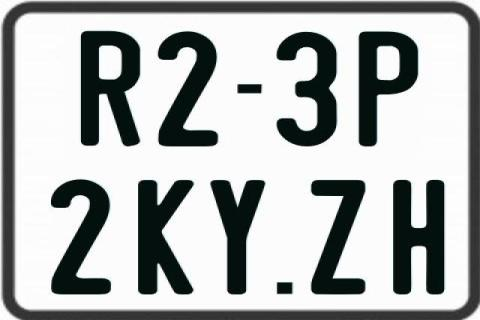0: (274, 32, 338, 150), (158, 30, 223, 146), (51, 178, 116, 294)
H: (392, 180, 445, 298)
K: (137, 179, 193, 299)
P: (357, 29, 416, 145)
R: (80, 29, 140, 147)
Y: (208, 180, 263, 299)
Z: (308, 178, 367, 292)
